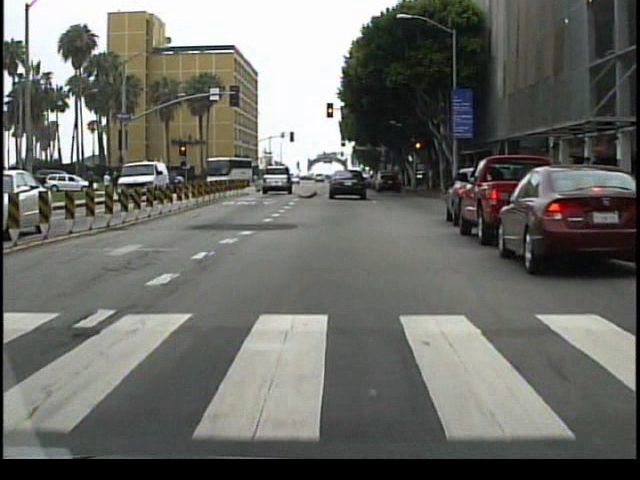person: (106, 169, 121, 206), (86, 169, 99, 197), (104, 171, 114, 194)
